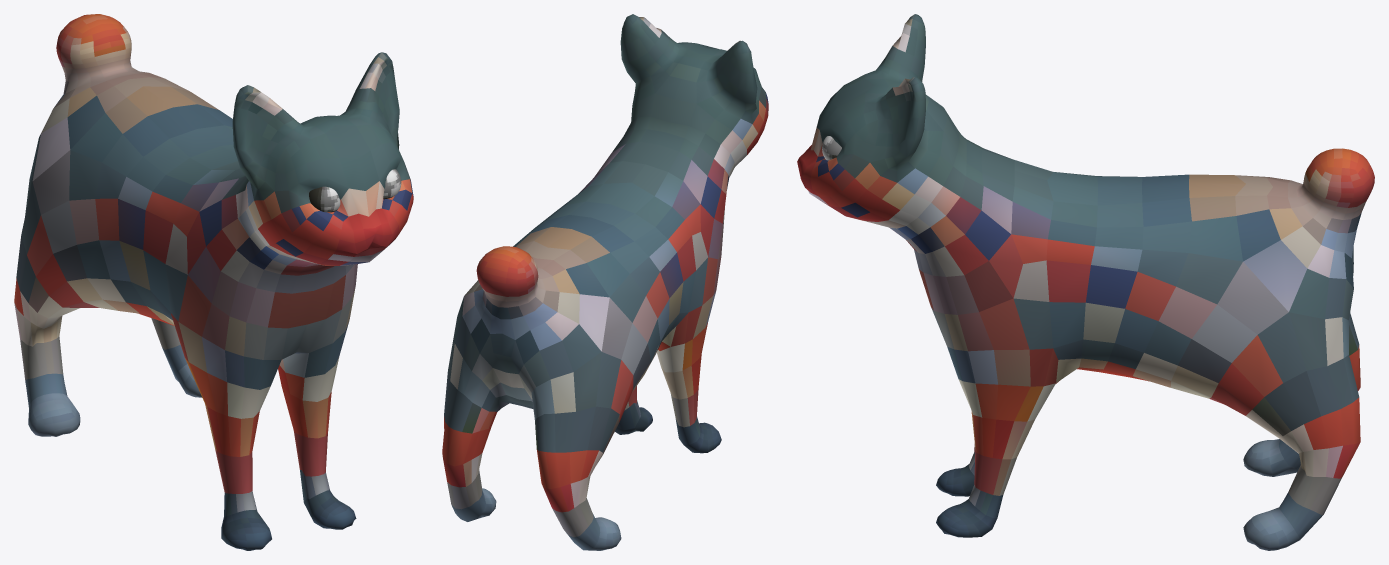
The model's file is cat_shorty_3.fbx.
3 views of the same model, side by side, from view 1: azimuth 30°, elevation 25°; view 2: azimuth 150°, elevation 25°; view 3: azimuth 270°, elevation 25° (orthographic). The views are drawn at different scales.
Parts seen in each view (by area): view 1: cat_shorty; view 2: cat_shorty; view 3: cat_shorty.
Boxes of the visible parts, bbox=[...] form: cat_shorty: bbox=[14, 14, 413, 550]; cat_shorty: bbox=[442, 14, 768, 550]; cat_shorty: bbox=[797, 14, 1374, 550].
Bounding box in the file's own units: 0.2094 × 0.487 × 0.5463.
Materials: 1 (1 with a texture image).
